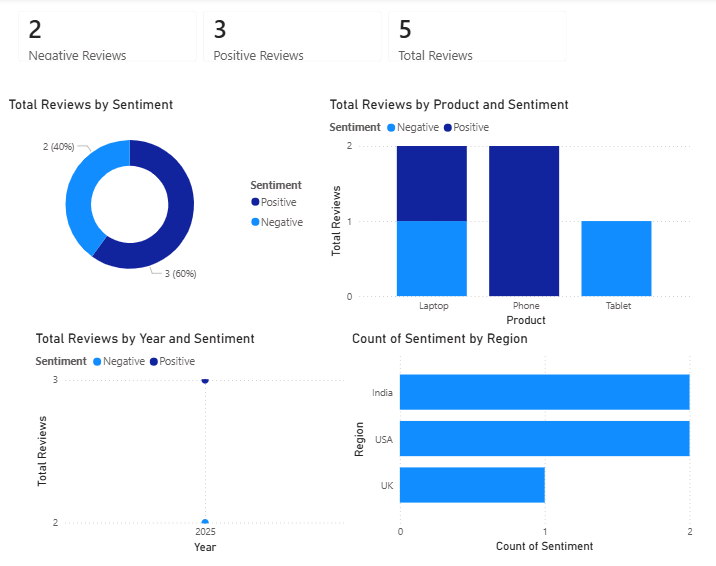

Layout of this report page (visuals, bound fields, positions):
{"tool":"powerbi","page":{"name":"Page 1","canvas":[1280,720],"ordinal":0},"visuals":[{"type":"cardVisual","fields":{"Data":["FactReviews.Negative Reviews","FactReviews.Positive Reviews","FactReviews.Total Reviews"]},"box":[9.4,0,727.6,98.3],"z":0},{"type":"donutChart","fields":{"Category":["FactReviews.Sentiment"],"Y":["FactReviews.Total Reviews"]},"box":[9.4,124.7,396.9,253.2],"z":1},{"type":"columnChart","fields":{"Category":["FactReviews.Product"],"Series":["FactReviews.Sentiment"],"Y":["FactReviews.Total Reviews"]},"box":[413.9,124.7,466.8,294.8],"z":2},{"type":"lineChart","fields":{"Category":["FactReviews.Date.Variation.Date Hierarchy.Year","FactReviews.Date.Variation.Date Hierarchy.Quarter","FactReviews.Date.Variation.Date Hierarchy.Month","FactReviews.Date.Variation.Date Hierarchy.Day"],"Y":["FactReviews.Total Reviews"],"Series":["FactReviews.Sentiment"]},"box":[43.5,419.5,398.7,285.4],"z":3},{"type":"clusteredBarChart","fields":{"Category":["FactReviews.Region"],"Y":["CountNonNull(FactReviews.Sentiment)"]},"box":[442,420,439,285],"z":4}]}

Visuals, with their boxes on the page's 1280x720 design canvas (x1, y1, x2, y2). These are canvas units, not pixel positions in the 716x566 screenshot, which may show the page scaled, cropped or inside an application window:
cardVisual - FactReviews.Negative Reviews x FactReviews.Positive Reviews: (x1=9, y1=0, x2=737, y2=98)
donutChart - FactReviews.Sentiment x FactReviews.Total Reviews: (x1=9, y1=125, x2=406, y2=378)
columnChart - FactReviews.Product x FactReviews.Sentiment: (x1=414, y1=125, x2=881, y2=420)
lineChart - FactReviews.Date.Variation.Date Hierarchy.Year x FactReviews.Date.Variation.Date Hierarchy.Quarter: (x1=44, y1=420, x2=442, y2=705)
clusteredBarChart - FactReviews.Region x CountNonNull(FactReviews.Sentiment): (x1=442, y1=420, x2=881, y2=705)
